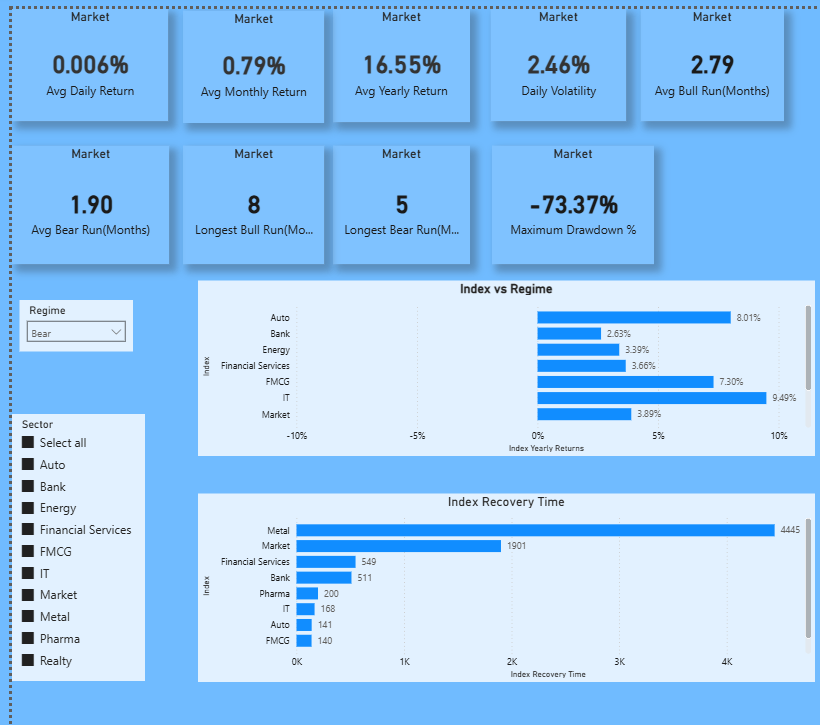

The dashboard page shown, as its layout file describes it:
{"tool":"powerbi","page":{"name":"Market Analysis","canvas":[1080,960],"ordinal":1},"visuals":[{"type":"advanceCardE03760C5AB684758B56AA29F9E6C257B","title":"Market","fields":{"mainMeasure":["facts_market_indices.Avg Daily Return"]},"box":[0,0,208.8,150],"z":0},{"type":"advanceCardE03760C5AB684758B56AA29F9E6C257B","title":"Market","fields":{"mainMeasure":["facts_market_indices.Avg Monthly Return"]},"box":[228.8,1.2,188.8,150],"z":1000},{"type":"advanceCardE03760C5AB684758B56AA29F9E6C257B","title":"Market","fields":{"mainMeasure":["facts_market_indices.Avg Yearly Return"]},"box":[428.8,0,182.5,151.2],"z":2000},{"type":"advanceCardE03760C5AB684758B56AA29F9E6C257B","title":"Market","fields":{"mainMeasure":["facts_market_indices.Daily Volatility"]},"box":[638.8,0,181.2,150],"z":3000},{"type":"advanceCardE03760C5AB684758B56AA29F9E6C257B","title":"Market","fields":{"mainMeasure":["facts_market_indices.Average Bull Run Length"]},"box":[837.5,0,191.2,150],"z":4000},{"type":"advanceCardE03760C5AB684758B56AA29F9E6C257B","title":"Market","fields":{"mainMeasure":["facts_market_indices.Average Bear Run Length"]},"box":[0,181.2,210,158.8],"z":5000},{"type":"advanceCardE03760C5AB684758B56AA29F9E6C257B","title":"Market","fields":{"mainMeasure":["facts_market_indices.Longest Bull Run"]},"box":[228.8,181.2,188.8,158.8],"z":6000},{"type":"advanceCardE03760C5AB684758B56AA29F9E6C257B","title":"Market","fields":{"mainMeasure":["facts_market_indices.Longest Bear Run"]},"box":[428.8,181.2,182.5,158.8],"z":7000},{"type":"slicer","fields":{"Values":["Sector Table.Sector"]},"box":[0,540,177.5,356.2],"z":8000},{"type":"slicer","fields":{"Values":["facts_market_indices.Regime"]},"box":[10,387.5,151.2,68.8],"z":9000},{"type":"clusteredBarChart","title":"Index vs Regime","fields":{"Category":["Sector Table.Sector"],"Y":["facts_market_indices.Selected Sector Yearly Returns"]},"box":[247.5,362.5,822.5,233.8],"z":10000},{"type":"advanceCardE03760C5AB684758B56AA29F9E6C257B","title":"Market","fields":{"mainMeasure":["facts_market_indices.Maximum Drawdown %"]},"box":[640,181.2,216.2,158.8],"z":11000},{"type":"clusteredBarChart","title":"Index Recovery Time","fields":{"Category":["Sector Table.Sector"],"Y":["facts_market_indices.Selected Index Recovery Time"]},"box":[247.5,645,822.5,251.2],"z":12000}]}

Visuals, with their boxes in screenshot pixels (x1, y1, x2, y2), scaled from the page's 1080x960 canvas onto the 820x725 screenshot:
"Market" advanceCardE03760C5AB684758B56AA29F9E6C257B: box=[0, 0, 159, 113]
"Market" advanceCardE03760C5AB684758B56AA29F9E6C257B: box=[174, 1, 317, 114]
"Market" advanceCardE03760C5AB684758B56AA29F9E6C257B: box=[326, 0, 464, 114]
"Market" advanceCardE03760C5AB684758B56AA29F9E6C257B: box=[485, 0, 623, 113]
"Market" advanceCardE03760C5AB684758B56AA29F9E6C257B: box=[636, 0, 781, 113]
"Market" advanceCardE03760C5AB684758B56AA29F9E6C257B: box=[0, 137, 159, 257]
"Market" advanceCardE03760C5AB684758B56AA29F9E6C257B: box=[174, 137, 317, 257]
"Market" advanceCardE03760C5AB684758B56AA29F9E6C257B: box=[326, 137, 464, 257]
slicer - Sector Table.Sector: box=[0, 408, 135, 677]
slicer - facts_market_indices.Regime: box=[8, 293, 122, 345]
"Index vs Regime" clusteredBarChart: box=[188, 274, 812, 450]
"Market" advanceCardE03760C5AB684758B56AA29F9E6C257B: box=[486, 137, 650, 257]
"Index Recovery Time" clusteredBarChart: box=[188, 487, 812, 677]
